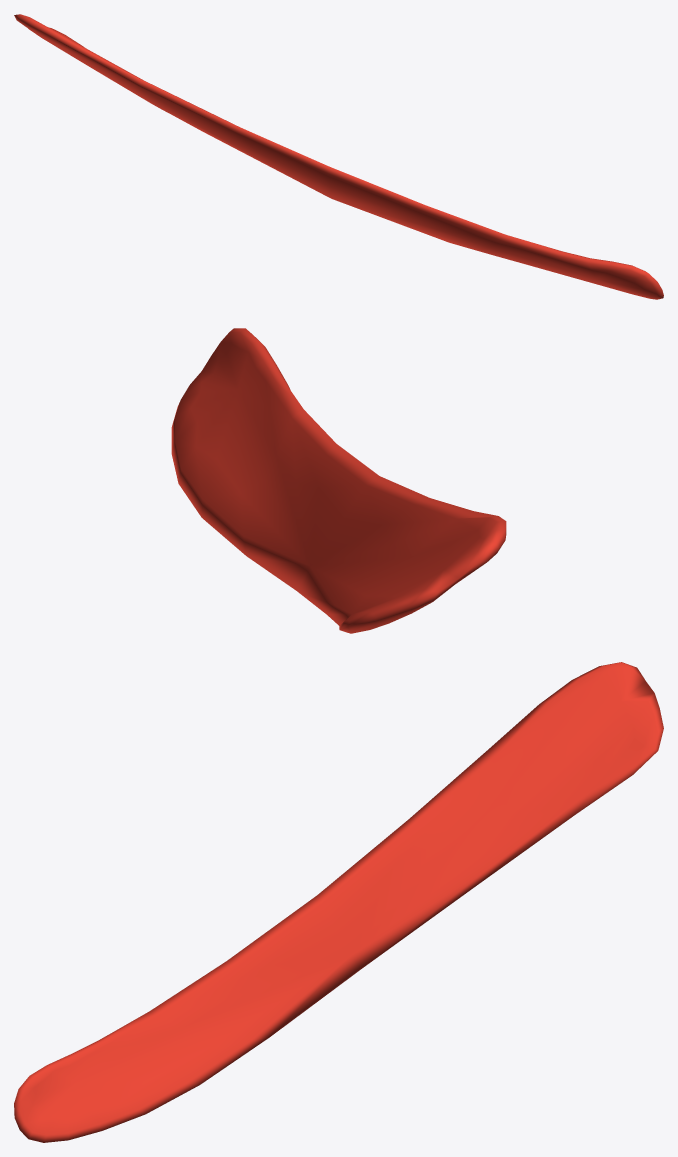
Rendered from Depressor_anguli_oris-_Insertion.r_Generated_Mesh_From_X3D.769.glb.
3 views of the same model, one above another, from view 1: azimuth 30°, elevation 25°; view 2: azimuth 150°, elevation 25°; view 3: azimuth 270°, elevation 25° (orthographic). The views are drawn at different scales.
Visible parts, largest first — view 1: Depressor_anguli_oris-_Insertion.r_Generated_Mesh_From_X3D.7; view 2: Depressor_anguli_oris-_Insertion.r_Generated_Mesh_From_X3D.7; view 3: Depressor_anguli_oris-_Insertion.r_Generated_Mesh_From_X3D.7.
Part boxes in pixels (<box>): Depressor_anguli_oris-_Insertion.r_Generated_Mesh_From_X3D.7: <box>14,14,663,299</box>; Depressor_anguli_oris-_Insertion.r_Generated_Mesh_From_X3D.7: <box>171,328,506,633</box>; Depressor_anguli_oris-_Insertion.r_Generated_Mesh_From_X3D.7: <box>14,662,663,1142</box>.
Size of the model in its own units: 0.0209 by 0.0103 by 0.0244.
